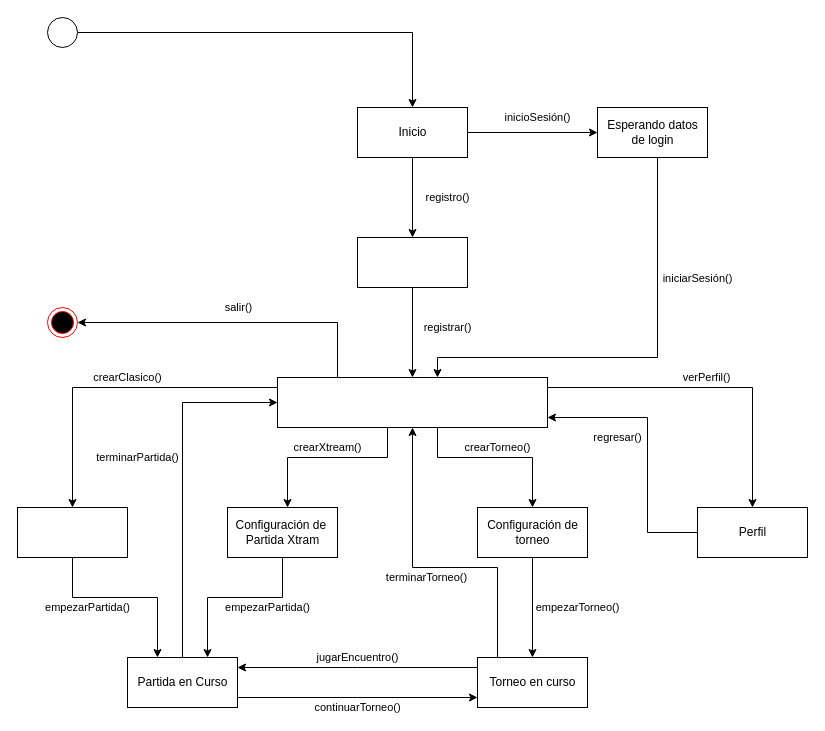
Image size: 825x731. Some labels were removed from this diagram. The centre of each missing label's shape, as x and y in pixels:
Esperando datos de registro: point (412, 262)
Inicio de partida clásica: point (72, 532)
Selección de Función: point (412, 402)
